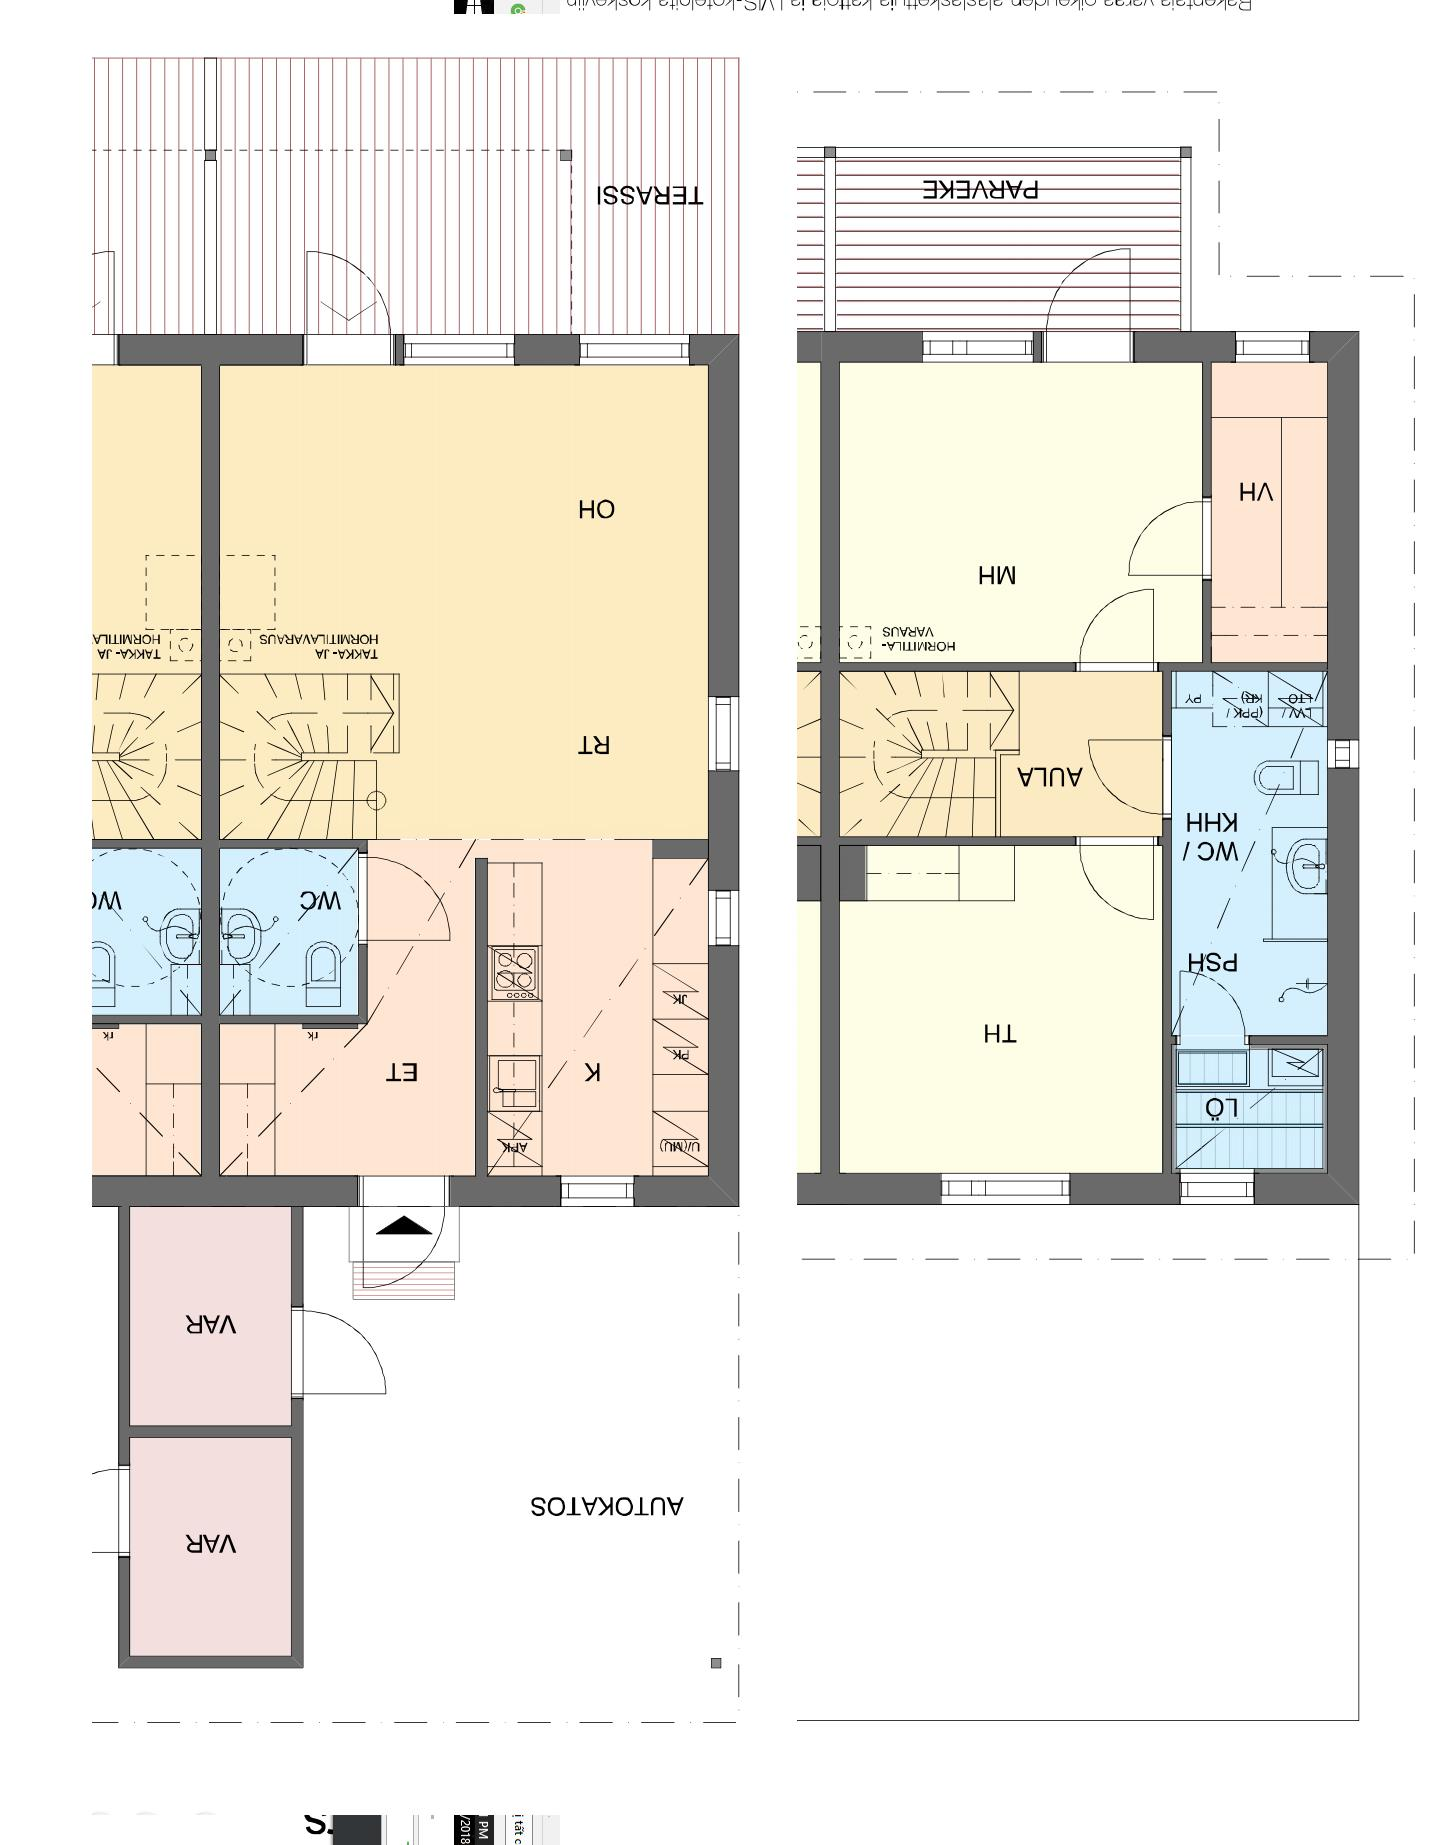bathroom: (1169, 675, 1323, 1059), (211, 842, 361, 1018), (90, 845, 199, 1023)
door: (353, 1165, 461, 1291), (293, 238, 398, 364), (1036, 244, 1144, 362), (286, 1295, 397, 1403), (350, 849, 461, 952), (1127, 496, 1224, 590), (1073, 827, 1166, 924), (1079, 731, 1180, 821), (1171, 963, 1259, 1060), (1069, 583, 1166, 669)
perimeter: (817, 323, 1362, 1213), (196, 331, 741, 1206), (114, 1198, 301, 1674)
stairs: (216, 672, 416, 839), (837, 663, 1019, 839), (90, 680, 196, 845)
window: (922, 1168, 1091, 1219), (897, 320, 1048, 371), (394, 320, 530, 371), (570, 323, 707, 370), (542, 1170, 656, 1219), (1217, 320, 1325, 370), (702, 680, 745, 783), (1166, 1165, 1269, 1209), (696, 881, 745, 954), (1323, 720, 1367, 783)
